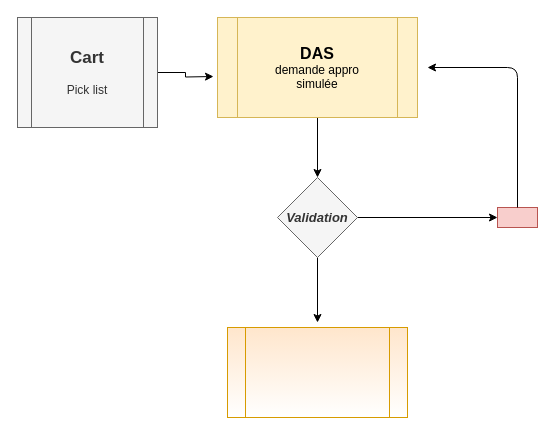
This 555x435 diagram has some shape labels left out. Each missing label, with the centre of its shape:
"CAC commande appro confirmée" belongs at [317,372].
"Non" belongs at [517,217].
